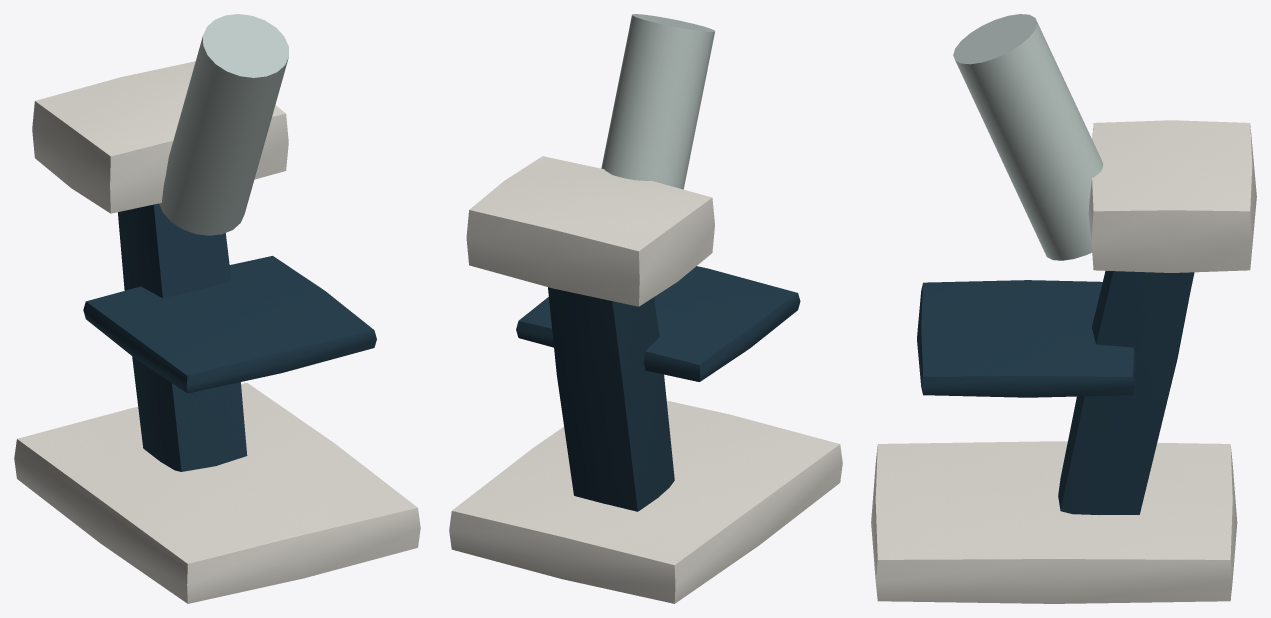
File: microscope.glb
3 views of the same model, side by side, from view 1: azimuth 30°, elevation 25°; view 2: azimuth 150°, elevation 25°; view 3: azimuth 270°, elevation 25° (orthographic). The views are drawn at different scales.
Visible parts, largest first — view 1: microscope; view 2: microscope; view 3: microscope.
Part boxes in pixels (x1,y1,x2,y2): microscope: [14, 14, 420, 603]; microscope: [449, 14, 842, 603]; microscope: [871, 14, 1256, 603].
Bounding box in the file's own units: 0.22 × 0.444 × 0.295.
5 materials, 5 textured.
